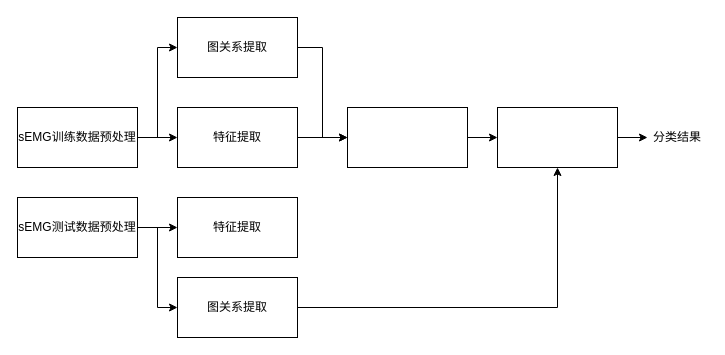
Some shapes in this 725 by 355 pixel diagram are drawn without their labels. Each missing label, with the box of its shape:
分类器: (496, 106, 618, 168)
模型训练: (346, 106, 468, 168)
